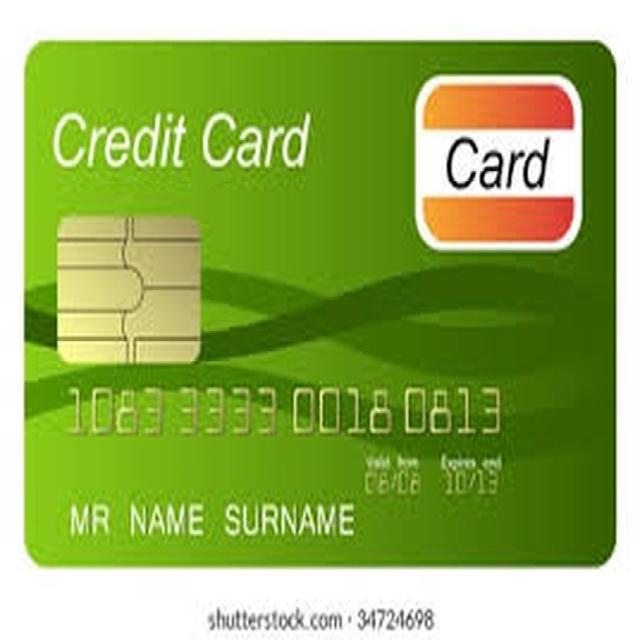card: (13, 22, 626, 588)
